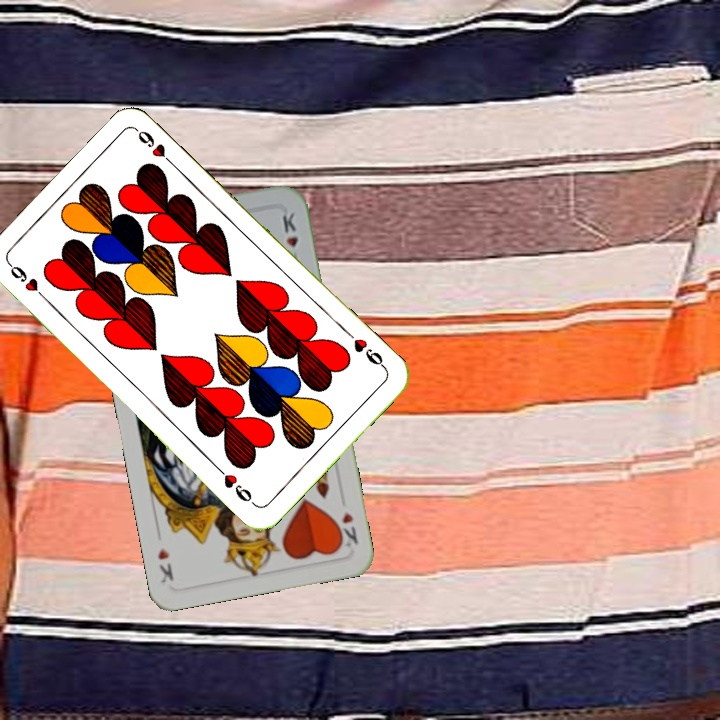H9: (5, 259, 52, 305), (342, 327, 389, 372)
HK: (332, 508, 361, 551)
